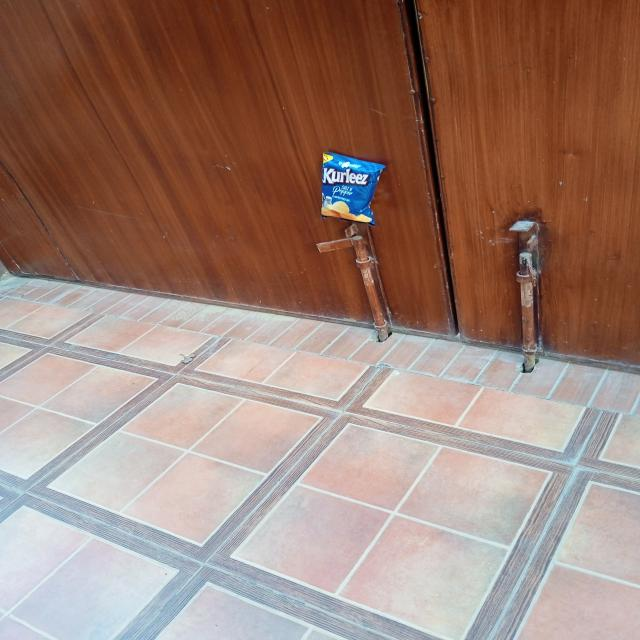Plastic: (316, 147, 387, 226)
